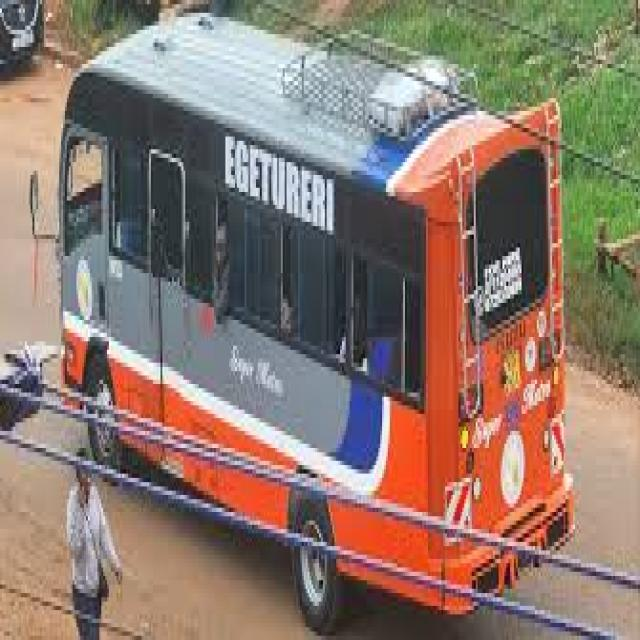bus: (12, 0, 594, 628)
